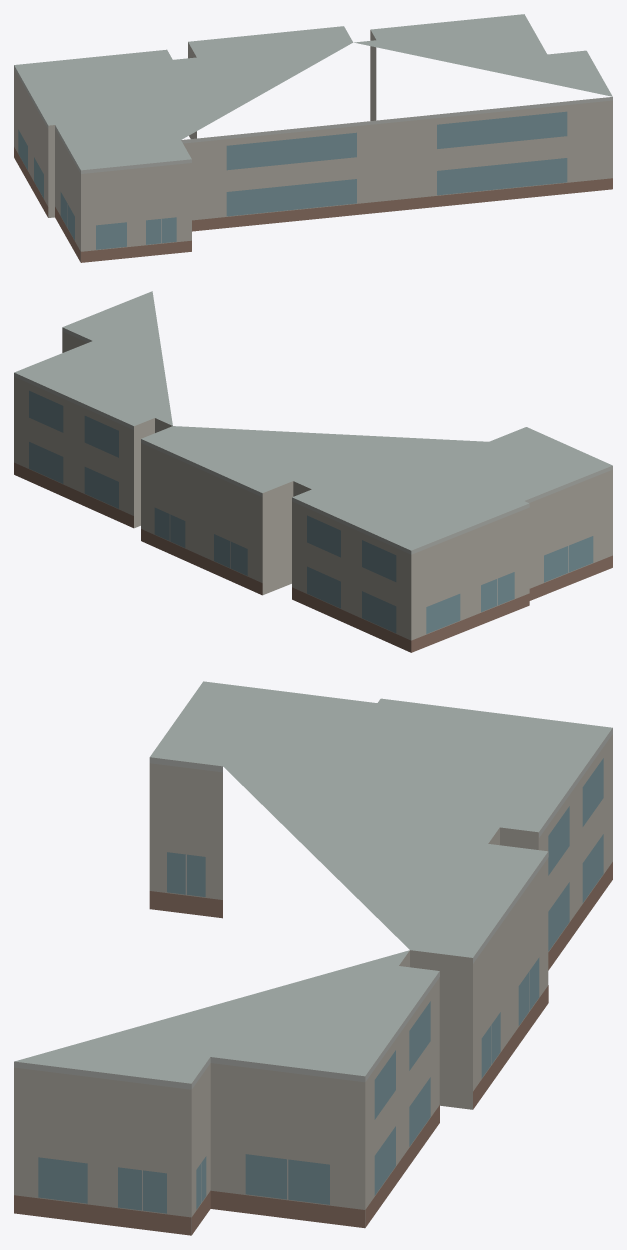
File: survey-upis-32868517.glb
3 renders of one model, top to bottom at view 1: azimuth 30°, elevation 25°; view 2: azimuth 150°, elevation 25°; view 3: azimuth 270°, elevation 25°, orthographic. The views are drawn at different scales.
Parts seen in each view (by area): view 1: survey-upis-32868517.tmp; view 2: survey-upis-32868517.tmp; view 3: survey-upis-32868517.tmp.
Boxes of the visible parts, x1,y1,x2,y2 form: survey-upis-32868517.tmp: [14, 14, 612, 262]; survey-upis-32868517.tmp: [14, 291, 612, 652]; survey-upis-32868517.tmp: [14, 681, 612, 1235].
Size of the model in its own units: 34.68 by 6.1 by 21.81.
